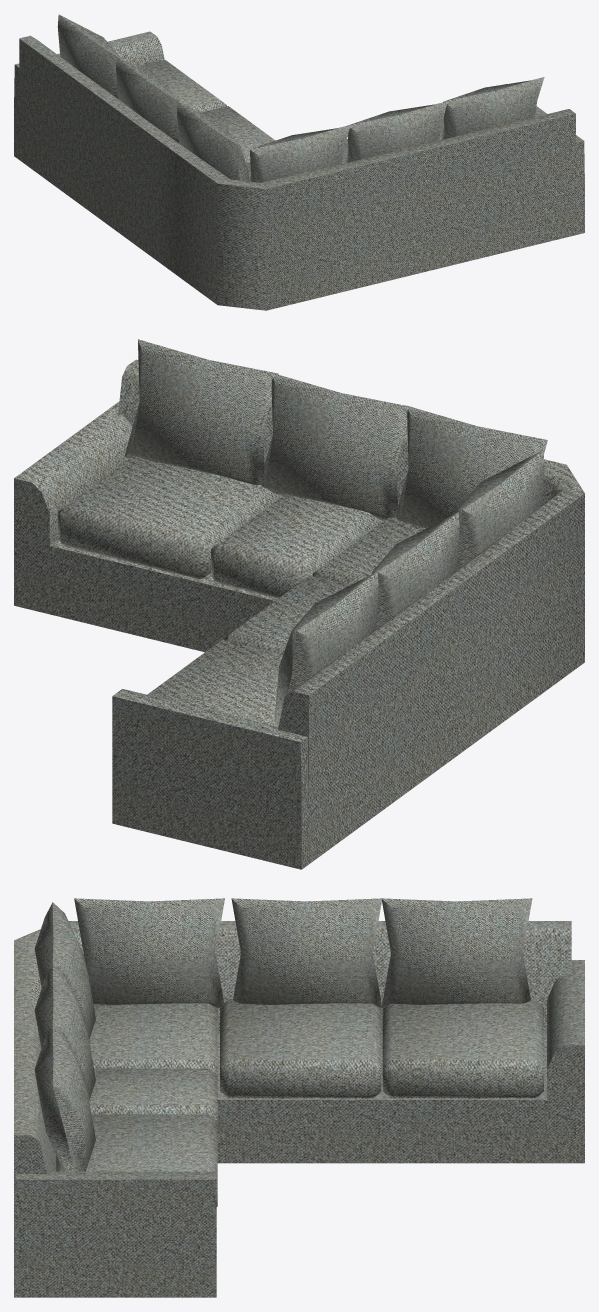
The model's file is Armchair_18-col.glb.
3 views of the same model, one above another, from view 1: azimuth 30°, elevation 25°; view 2: azimuth 150°, elevation 25°; view 3: azimuth 270°, elevation 25° (orthographic). The views are drawn at different scales.
Parts seen in each view (by area): view 1: Armchair_18-col; view 2: Armchair_18-col; view 3: Armchair_18-col.
Part boxes in pixels (bbox=[...]): Armchair_18-col: bbox=[14, 14, 584, 310]; Armchair_18-col: bbox=[14, 339, 584, 869]; Armchair_18-col: bbox=[14, 898, 584, 1297].
Bounding box in the file's own units: 2.57 × 1.06 × 2.82.
Materials: 1 (1 with a texture image).
